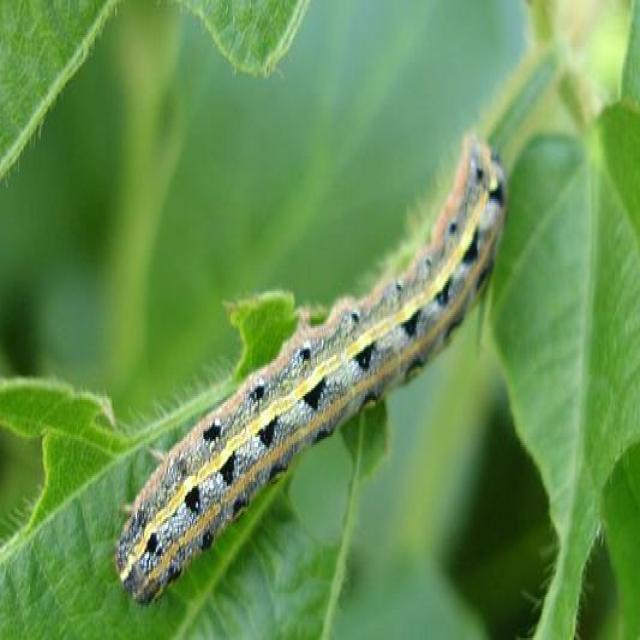Plaga: (109, 122, 516, 614)
